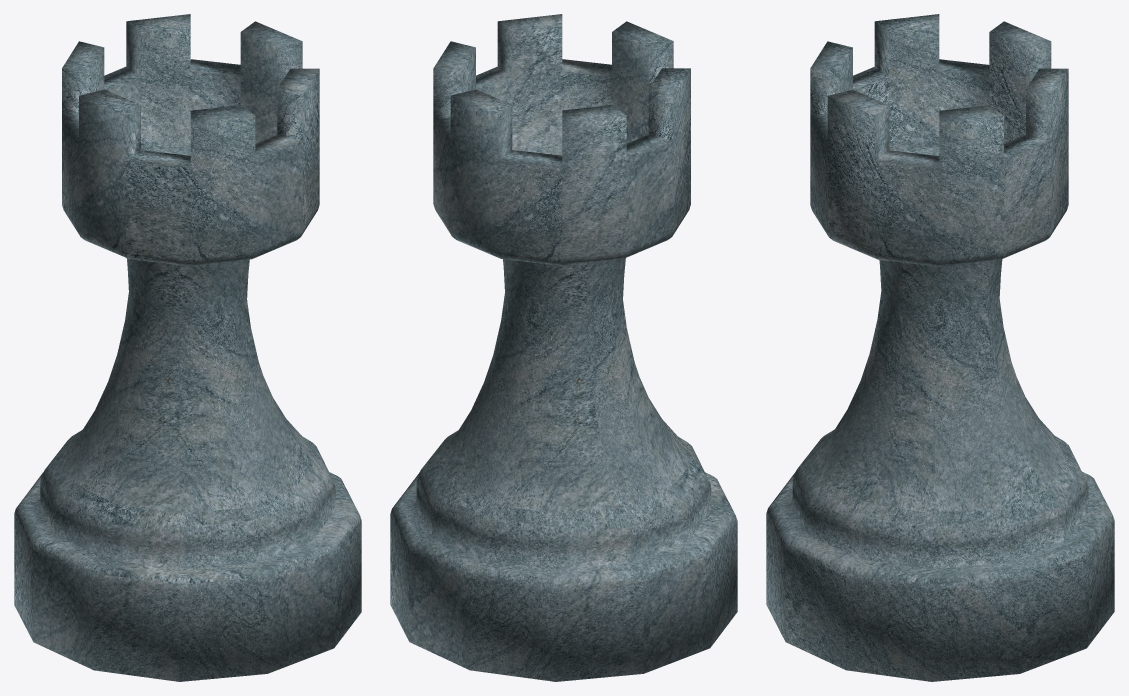
File: TorreNegro.glb
3 views of the same model, side by side, from view 1: azimuth 30°, elevation 25°; view 2: azimuth 150°, elevation 25°; view 3: azimuth 270°, elevation 25° (orthographic).
Parts seen in each view (by area): view 1: Torre; view 2: Torre; view 3: Torre.
Part boxes in pixels (x1,y1,x2,y2): Torre: [14, 14, 361, 681]; Torre: [390, 14, 737, 681]; Torre: [766, 14, 1114, 681].
Size of the model in its own units: 0.7033 by 1.21 by 0.7033.
Materials: 1 (1 with a texture image).
